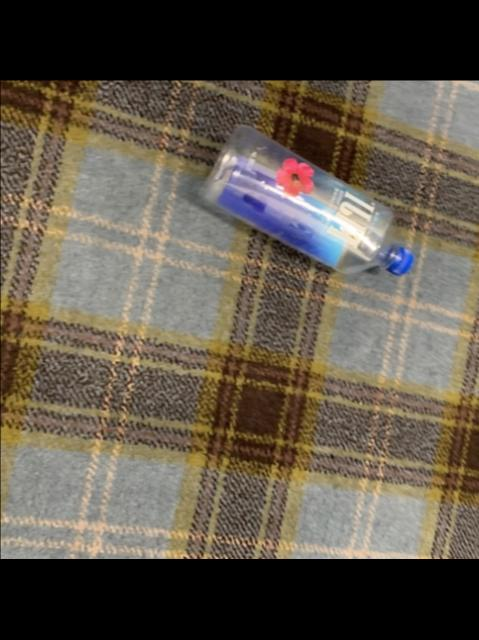plastic: (203, 127, 414, 276)
